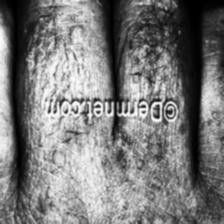Toxin: (136, 135, 180, 224)
